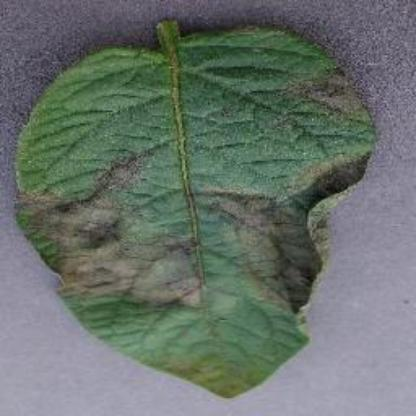Late-Blight: (10, 7, 376, 406)
